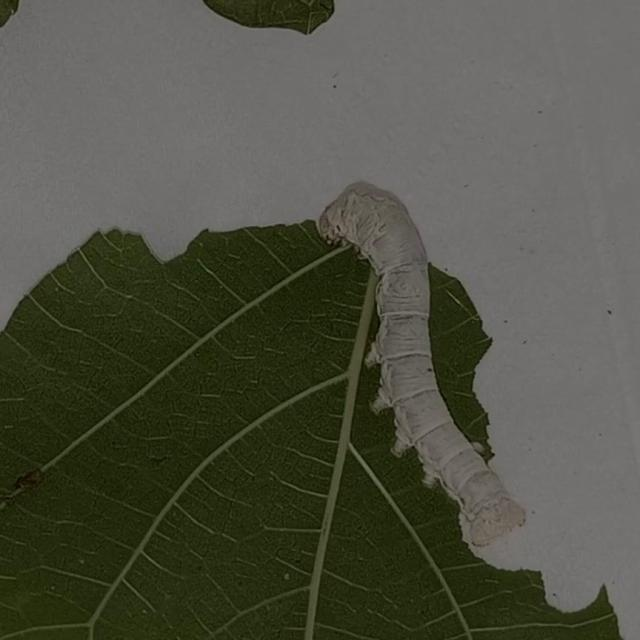Healthy: (307, 158, 541, 562)
